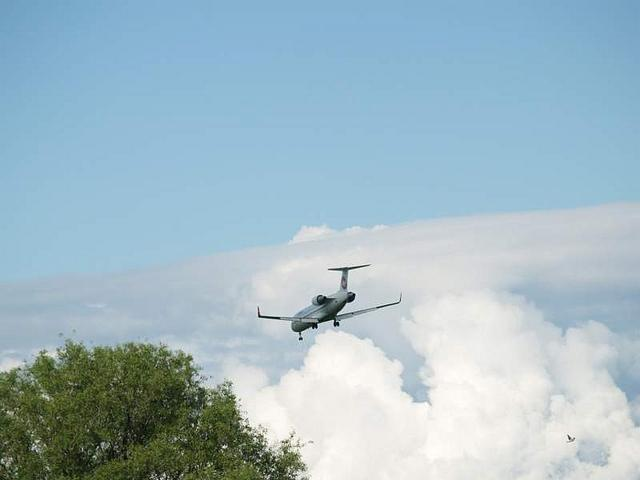airplane: (255, 262, 404, 342)
